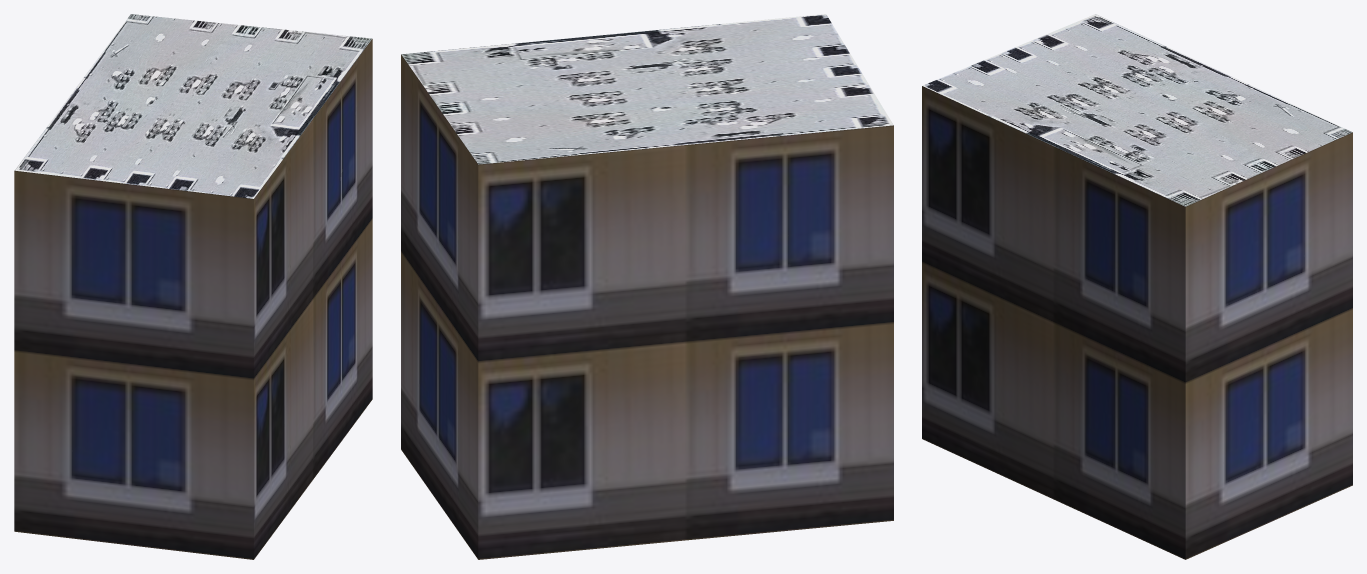
File: ResTex__1640.fbx
3 renders of one model, left to right at view 1: azimuth 30°, elevation 25°; view 2: azimuth 150°, elevation 25°; view 3: azimuth 270°, elevation 25°, orthographic. The views are drawn at different scales.
Visible parts, largest first — view 1: CityEngineMaterial_5_m, CityEngineMaterial_2_m; view 2: CityEngineMaterial_5_m, CityEngineMaterial_2_m; view 3: CityEngineMaterial_5_m, CityEngineMaterial_2_m.
Boxes of the visible parts, bbox=[...] form: CityEngineMaterial_5_m: bbox=[14, 39, 372, 559]; CityEngineMaterial_2_m: bbox=[15, 14, 371, 198]; CityEngineMaterial_5_m: bbox=[401, 54, 893, 559]; CityEngineMaterial_2_m: bbox=[401, 14, 893, 164]; CityEngineMaterial_5_m: bbox=[922, 86, 1352, 559]; CityEngineMaterial_2_m: bbox=[922, 14, 1352, 206].
Size of the model in its own units: 7.03 by 6 by 6.63.
Materials: 2 (2 with a texture image).
